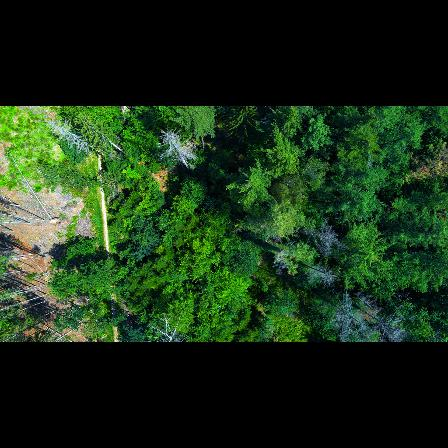Dead: (39, 116, 98, 156), (157, 125, 202, 172), (294, 223, 343, 255), (147, 309, 194, 342), (331, 294, 366, 337), (367, 309, 409, 340)
